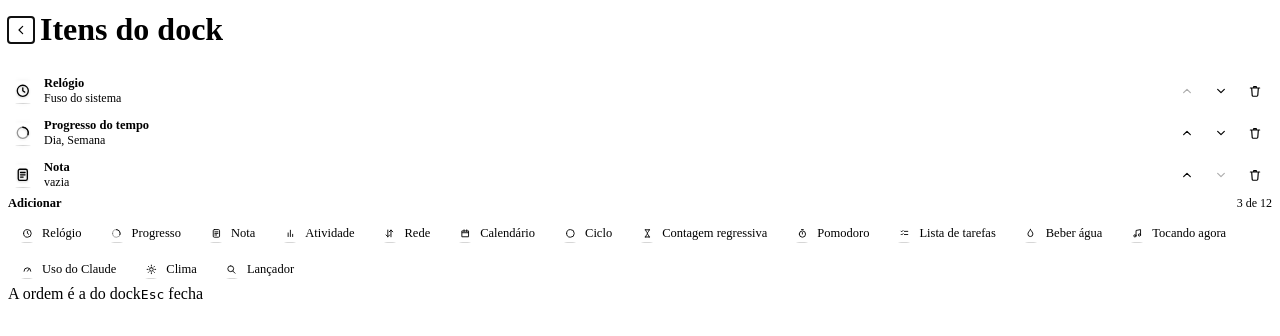
it: DockItems › shows the message of a refused change and clears it on the next
The image size is (1280, 336).
Click the button named "Descer Relógio" at (1221, 91), box top-left (1208, 78), bottom-right (1234, 104)
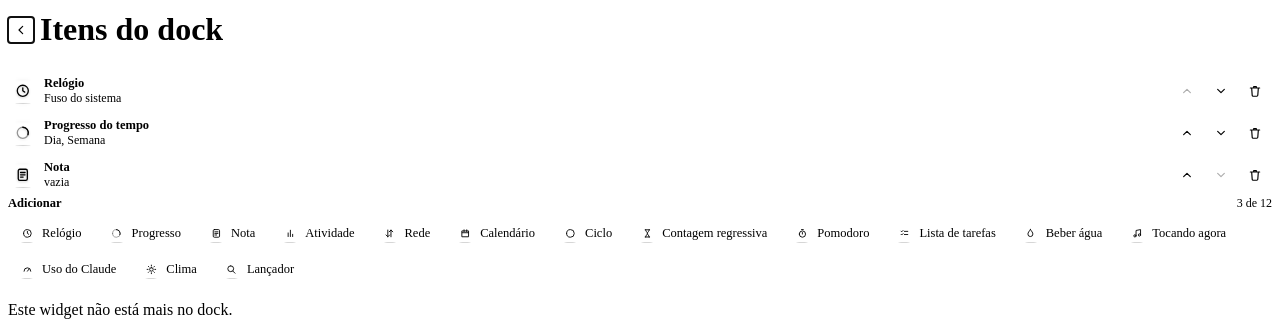
Now the message reads "Este widget não está mais no dock.", box top-left (8, 301), bottom-right (232, 318)
Click the button "Relógio" at (50, 234), box top-left (8, 219), bottom-right (92, 249)
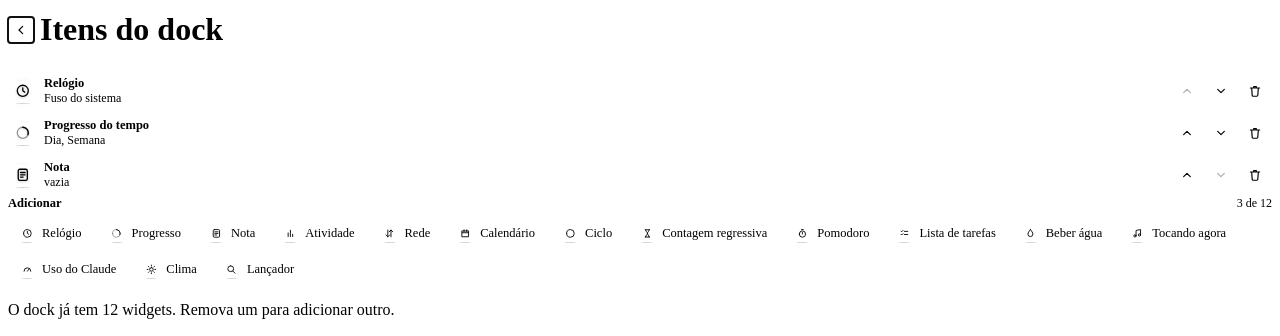
Now the message reads "O dock já tem 12 widgets. Remova um para adicionar outro.", box top-left (8, 301), bottom-right (395, 318)
